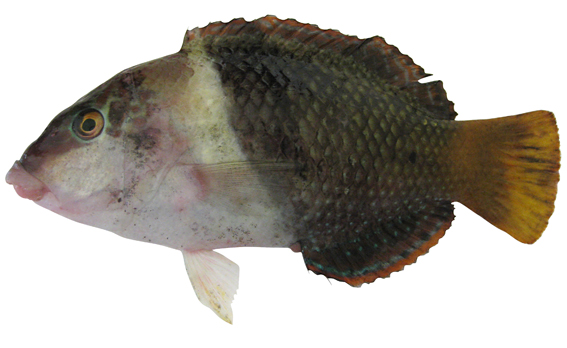fish: (5, 14, 561, 326)
